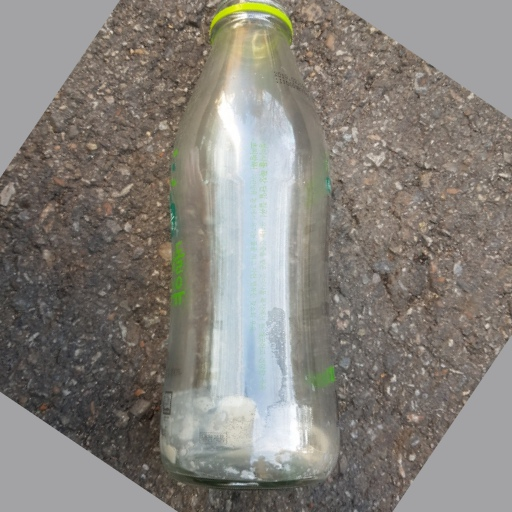Glass_4: (159, 1, 346, 491)
